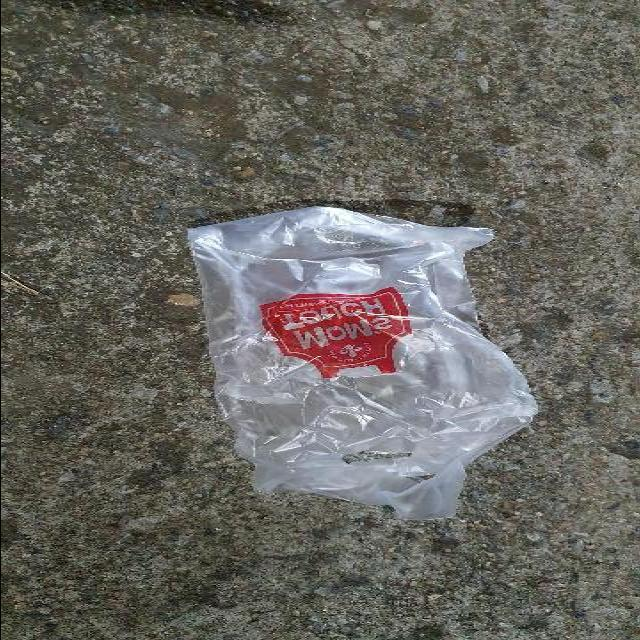plastic bag: (184, 202, 544, 524)
